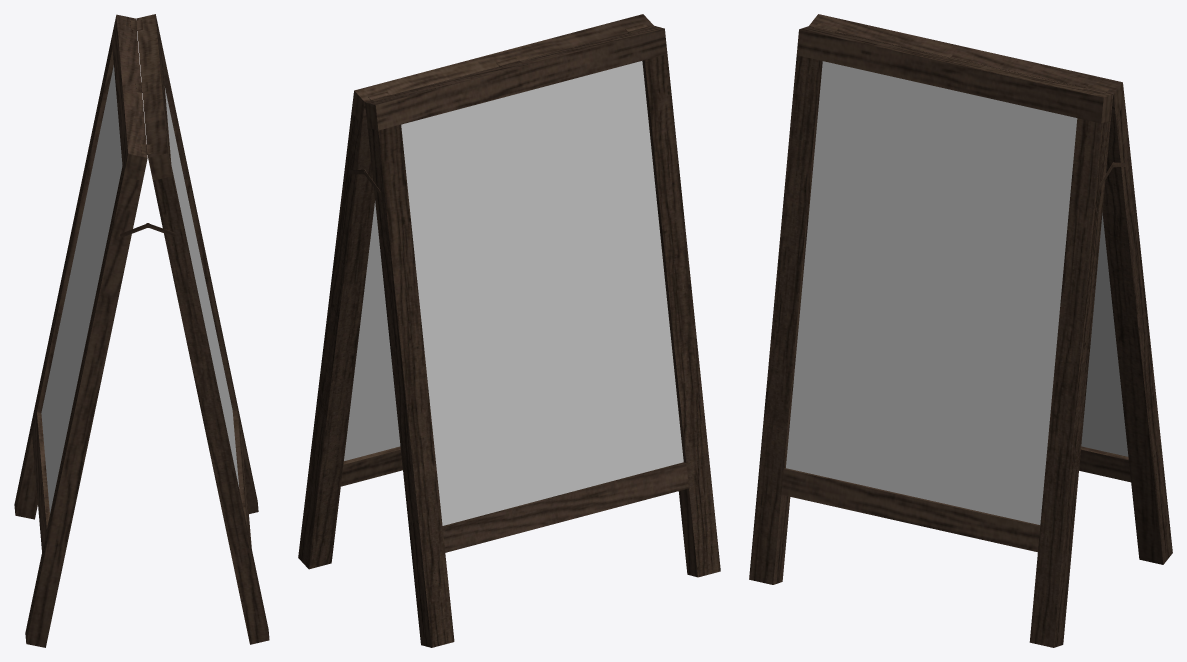
Rendered from AnuncioS3.obj.
The picture shows the model from 3 angles, left to right: view 1: azimuth 30°, elevation 25°; view 2: azimuth 150°, elevation 25°; view 3: azimuth 270°, elevation 25°; orthographic projection. The views are drawn at different scales.
Visible parts, largest first — view 1: AnuncioS3; view 2: AnuncioS3; view 3: AnuncioS3.
Part boxes in pixels (left/top/right/bottom): AnuncioS3: left=14, top=14, right=269, bottom=647; AnuncioS3: left=298, top=14, right=720, bottom=647; AnuncioS3: left=749, top=14, right=1172, bottom=647.
Size of the model in its own units: 3.15 by 4.63 by 3.46.
